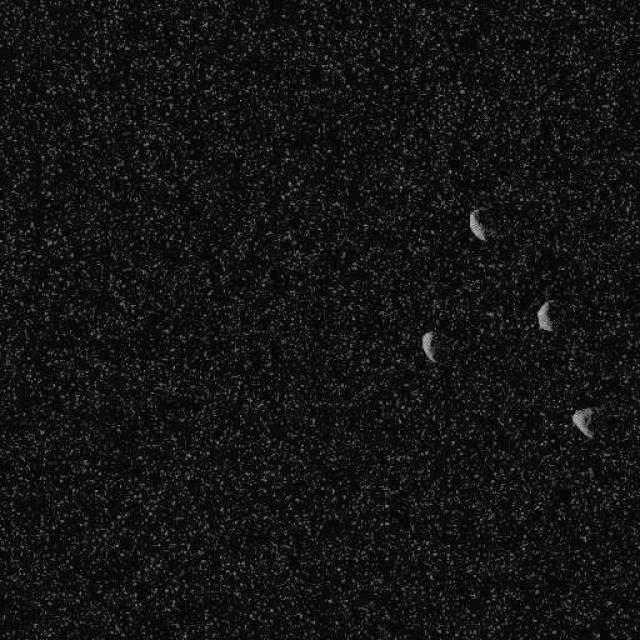D2: (570, 405, 595, 439), (468, 206, 488, 242), (420, 328, 438, 364), (536, 299, 554, 331)
